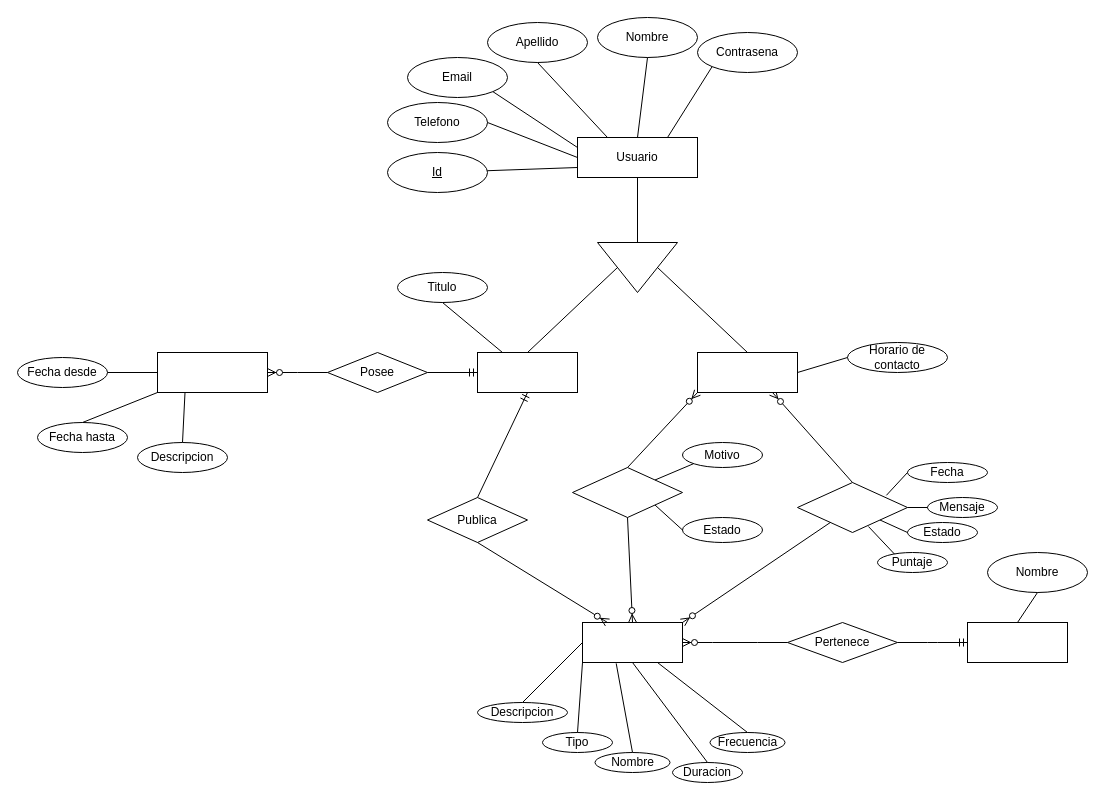
This 1105x800 diagram has some shape labels left out. Here are the shapes that lost their labels. From the top down, the centre of each, then its label:
At [637,267]: "Es".
At [212,372]: "Experiencia".
At [527,372]: "Proveedor".
At [747,372]: "Cliente".
At [627,492]: "Contrata".
At [852,507]: "Comenta".
At [632,642]: "Servicio".
At [1017,642]: "Categoria".
